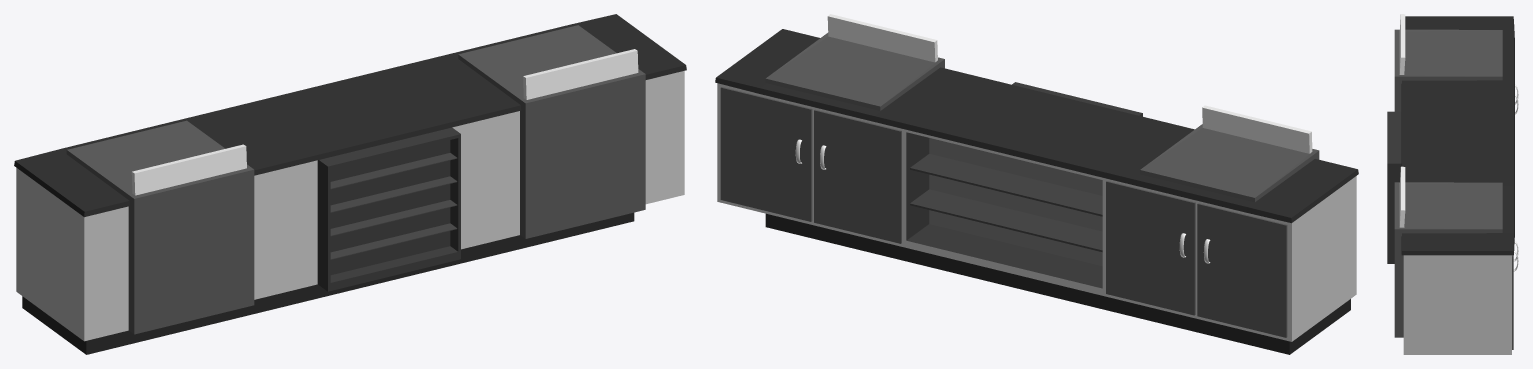
Rendered from Double Checkout #2.fbx.
The picture shows the model from 3 angles, left to right: view 1: azimuth 30°, elevation 25°; view 2: azimuth 150°, elevation 25°; view 3: azimuth 270°, elevation 25°; orthographic projection. The views are drawn at different scales.
Visible parts, largest first — view 1: Double Checkout #2; view 2: Double Checkout #2; view 3: Double Checkout #2.
Part boxes in pixels (x1,y1,x2,y2): Double Checkout #2: [14, 14, 686, 354]; Double Checkout #2: [715, 14, 1358, 354]; Double Checkout #2: [1387, 14, 1518, 354].
Bounding box in the file's own units: 446 × 123 × 105.
Materials: 2 (1 with a texture image).
